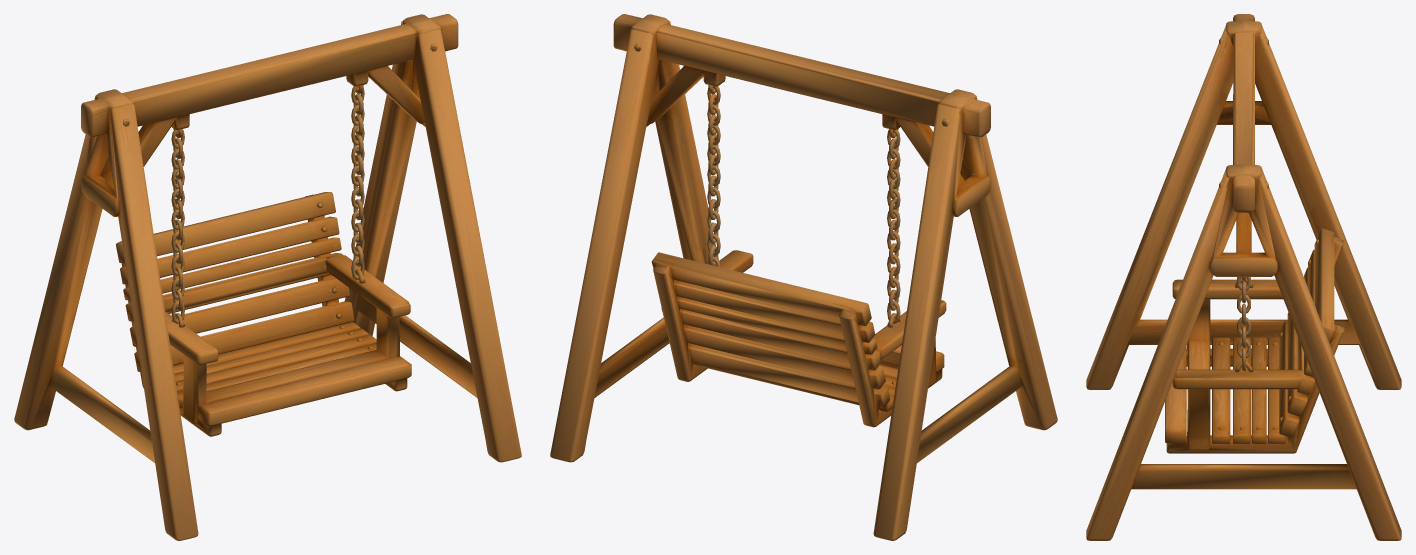
The model's file is Outdoor__a_wooden_swing_set_11904fb3_v2.cluster.glb.
The picture shows the model from 3 angles, left to right: view 1: azimuth 30°, elevation 25°; view 2: azimuth 150°, elevation 25°; view 3: azimuth 270°, elevation 25°; orthographic projection. The views are drawn at different scales.
Visible parts, largest first — view 1: material; view 2: material; view 3: material.
Part boxes in pixels (bbox=[...]): material: bbox=[14, 14, 521, 540]; material: bbox=[550, 14, 1057, 540]; material: bbox=[1086, 14, 1401, 540].
Size of the model in its own units: 1.9 by 1.89 by 1.48.
1 material, 1 textured.
